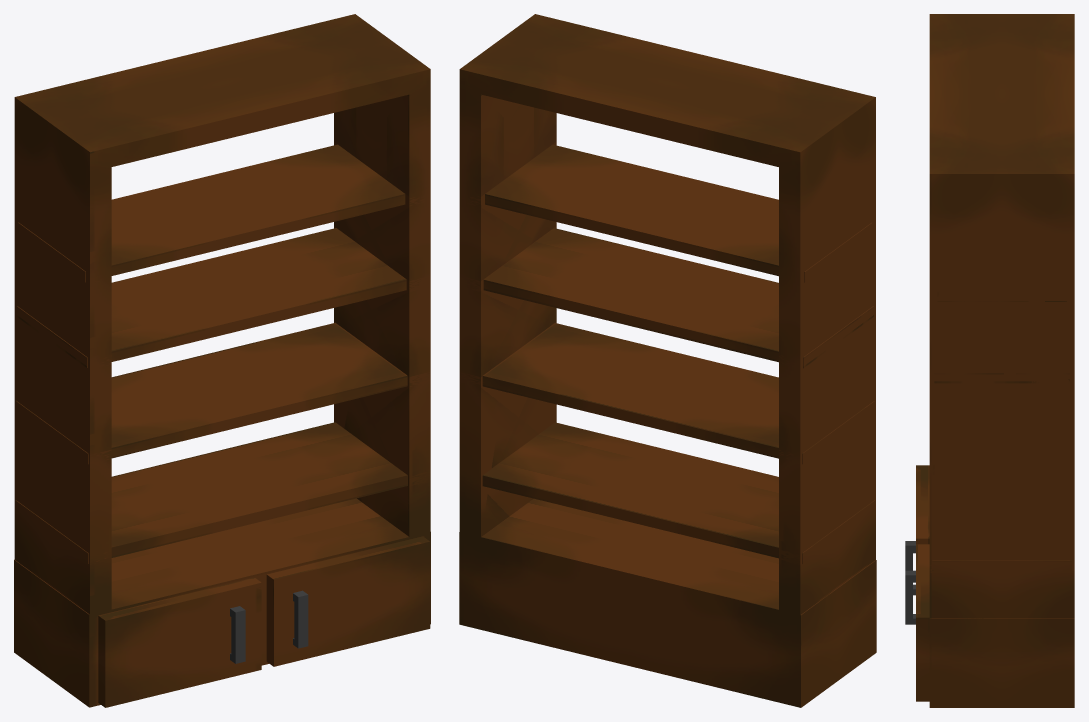
The model's file is Shelf.glb.
The picture shows the model from 3 angles, left to right: view 1: azimuth 30°, elevation 25°; view 2: azimuth 150°, elevation 25°; view 3: azimuth 270°, elevation 25°; orthographic projection. The views are drawn at different scales.
Visible parts, largest first — view 1: Cube, Cube.002, Cube.001; view 2: Cube; view 3: Cube, Cube.001, Cube.002.
Boxes of the visible parts, bbox=[...] form: Cube: bbox=[14, 14, 430, 707]; Cube.002: bbox=[230, 606, 245, 663]; Cube.001: bbox=[293, 590, 308, 648]; Cube: bbox=[459, 14, 876, 707]; Cube: bbox=[916, 14, 1074, 707]; Cube.001: bbox=[905, 570, 915, 624]; Cube.002: bbox=[905, 541, 915, 595].
Bounding box in the file's own units: 3.83 × 5.94 × 1.71.
Materials: 2 (1 with a texture image).
